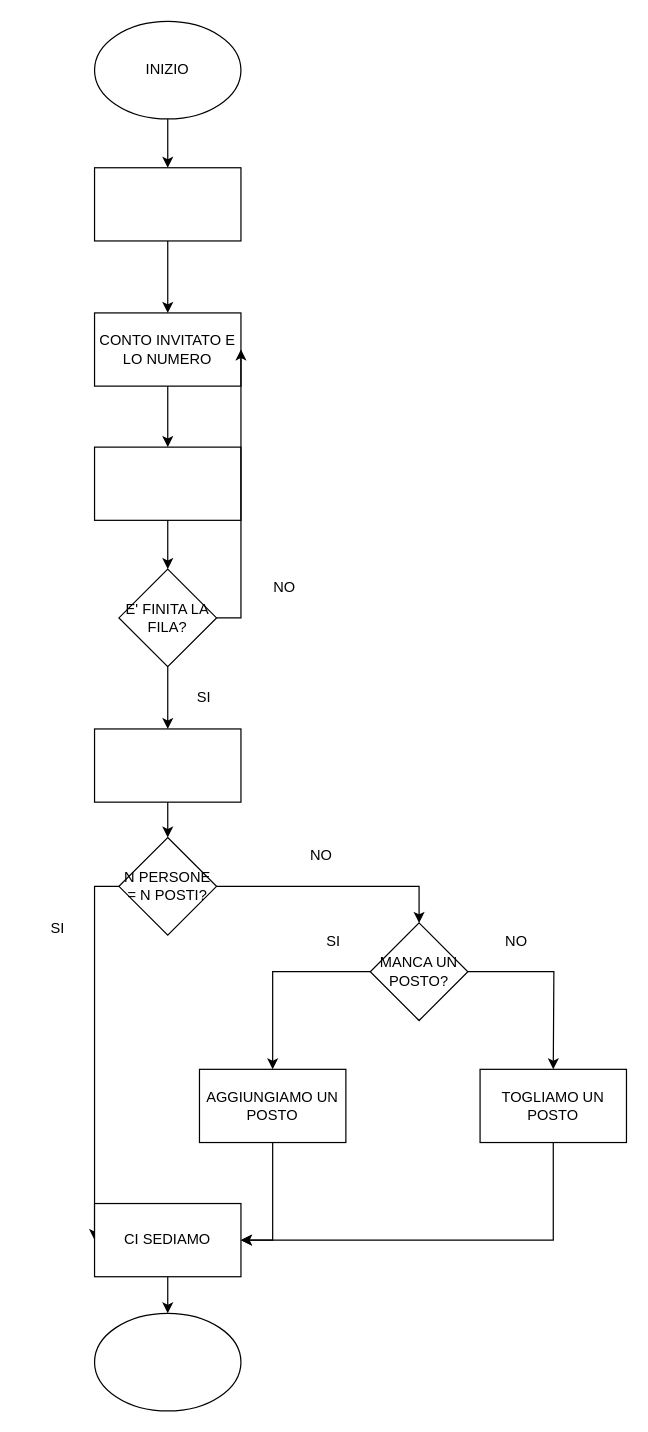
Some shapes in this 648 by 1432 pixel diagram are drawn without their labels. The box of each missing label's shape, as (x1, y1, x2, y2) in pixels:
AGGIUNGO ALLA LISTA PRESENTI: (93, 446, 241, 520)
CONTIAMO I POSTI A 2 A 2: (93, 728, 241, 802)
FINE: (93, 1312, 241, 1411)
METTO INVITATI IN FILA: (93, 167, 241, 241)
